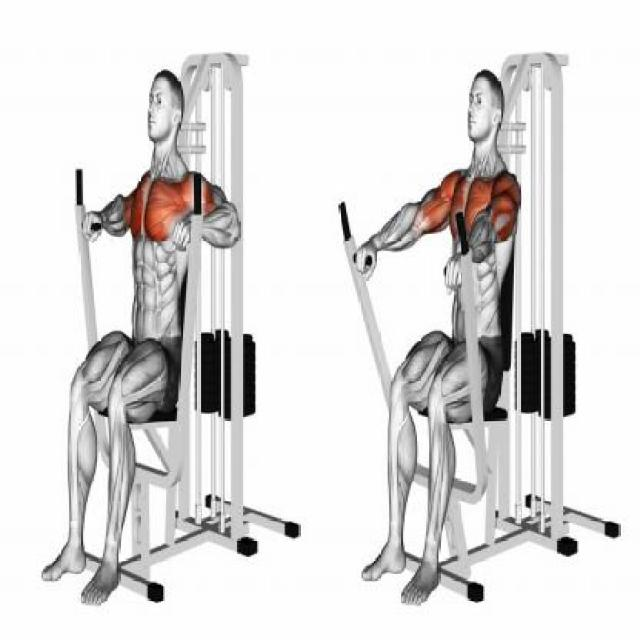Chest Press machine: (328, 43, 623, 611), (42, 42, 303, 608)
